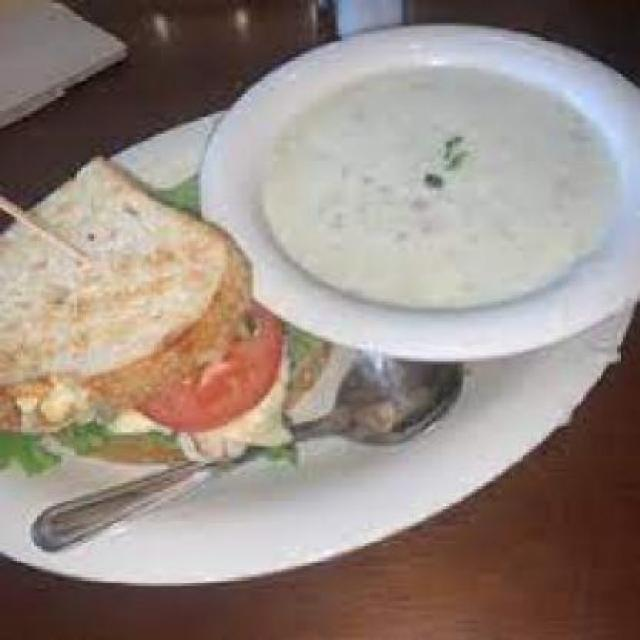clam chowder: (216, 22, 638, 350)
